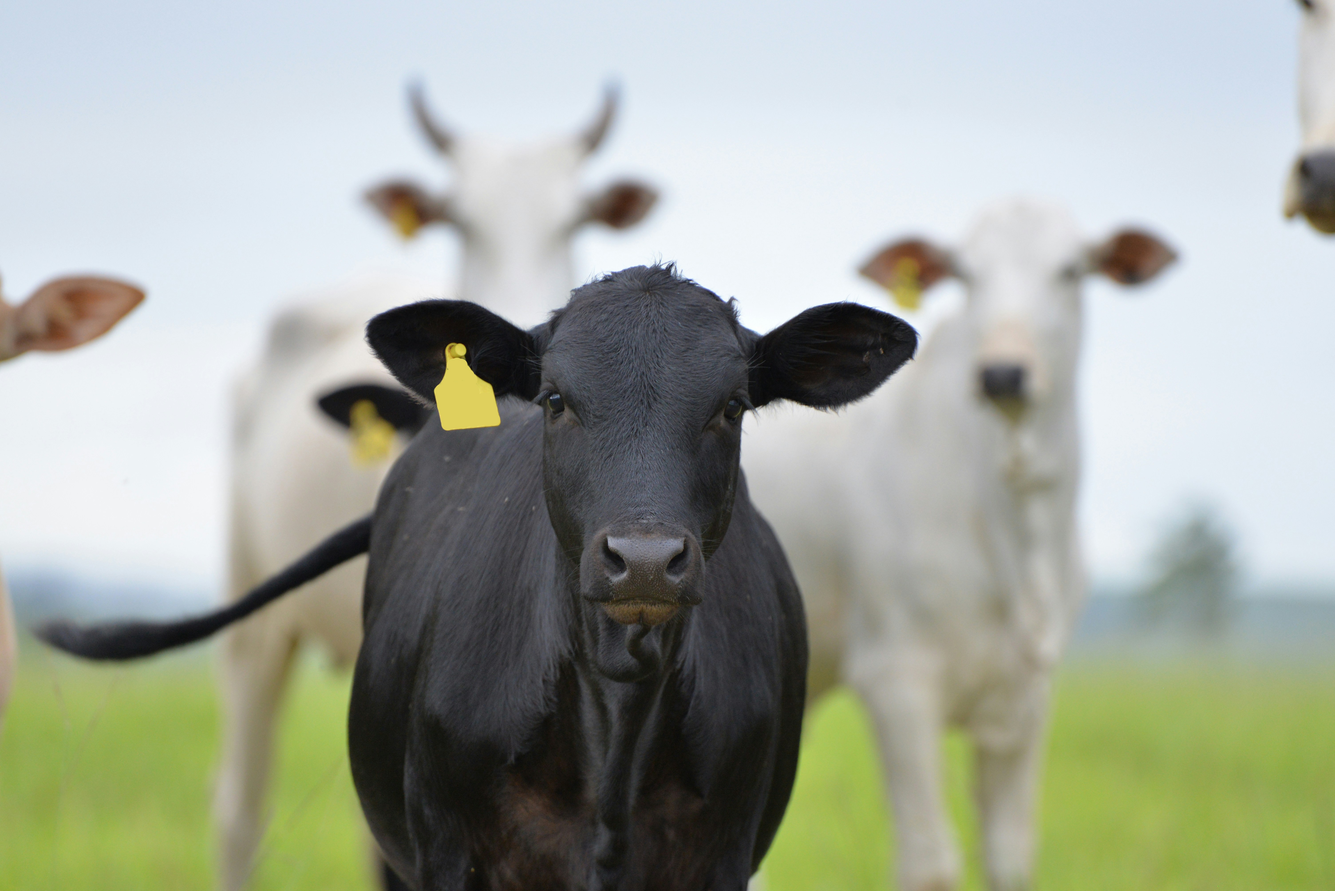bovino: (343, 260, 843, 891)
